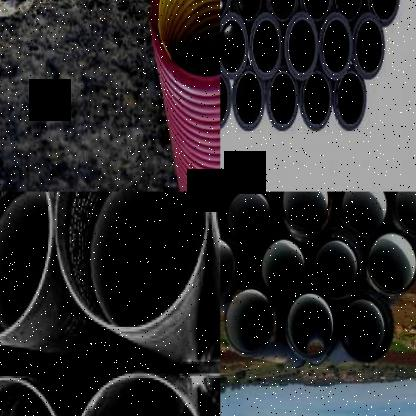pipe: (51, 192, 209, 332), (0, 191, 53, 342), (67, 368, 217, 416), (149, 0, 220, 92), (338, 289, 395, 364), (309, 227, 364, 299), (224, 286, 278, 356), (285, 291, 336, 360), (366, 231, 416, 294), (220, 191, 274, 245), (260, 238, 306, 297), (284, 12, 318, 80), (318, 13, 352, 79), (333, 66, 367, 131), (266, 66, 300, 131), (232, 66, 266, 131), (340, 192, 390, 236), (249, 13, 282, 78), (299, 66, 332, 131), (353, 13, 385, 79), (281, 192, 331, 232), (220, 13, 248, 79), (220, 235, 238, 303), (392, 192, 416, 236), (299, 0, 333, 26), (232, 0, 264, 27), (266, 0, 298, 26), (366, 0, 398, 26), (332, 0, 364, 25), (221, 66, 230, 131)
